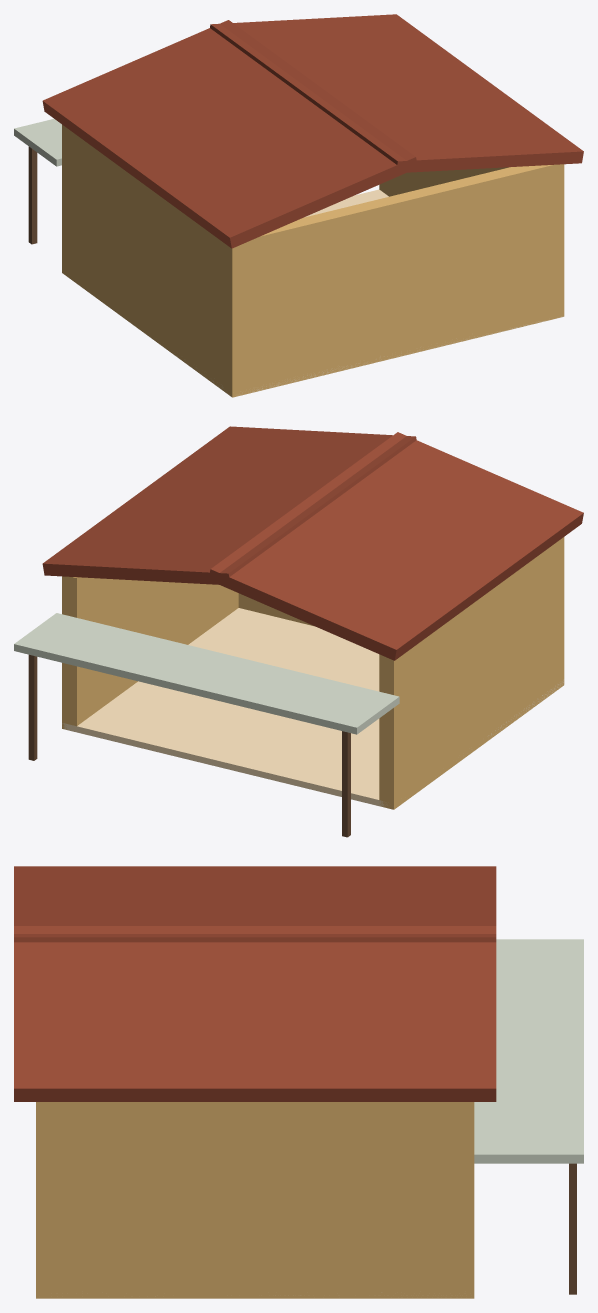
The model's file is grocery.glb.
The picture shows the model from 3 angles, top to bottom: view 1: azimuth 30°, elevation 25°; view 2: azimuth 150°, elevation 25°; view 3: azimuth 270°, elevation 25°; orthographic projection. The views are drawn at different scales.
Parts seen in each view (by area): view 1: _MeshInstance3D_181, _MeshInstance3D_190, _MeshInstance3D_191, _MeshInstance3D_184, _MeshInstance3D_187, _MeshInstance3D_193, _MeshInstance3D_194, _MeshInstance3D_192; view 2: _MeshInstance3D_190, _MeshInstance3D_191, _MeshInstance3D_184, _MeshInstance3D_192, _MeshInstance3D_193, _MeshInstance3D_187, _MeshInstance3D_195, _MeshInstance3D_181, _MeshInstance3D_194; view 3: _MeshInstance3D_187, _MeshInstance3D_191, _MeshInstance3D_190, _MeshInstance3D_193, _MeshInstance3D_181, _MeshInstance3D_195.
Boxes of the visible parts, x1,y1,x2,y2 form: _MeshInstance3D_181: (224, 164, 564, 397); _MeshInstance3D_190: (42, 20, 417, 248); _MeshInstance3D_191: (210, 14, 583, 173); _MeshInstance3D_184: (62, 124, 247, 397); _MeshInstance3D_187: (379, 164, 563, 319); _MeshInstance3D_193: (14, 119, 61, 166); _MeshInstance3D_194: (28, 146, 37, 244); _MeshInstance3D_192: (163, 189, 563, 395); _MeshInstance3D_190: (208, 432, 583, 660); _MeshInstance3D_191: (42, 426, 416, 585); _MeshInstance3D_184: (379, 537, 564, 809); _MeshInstance3D_192: (62, 608, 564, 807); _MeshInstance3D_193: (14, 613, 399, 734); _MeshInstance3D_187: (62, 576, 238, 729); _MeshInstance3D_195: (28, 654, 37, 760); _MeshInstance3D_181: (238, 538, 564, 687); _MeshInstance3D_194: (342, 731, 350, 837); _MeshInstance3D_187: (36, 1102, 474, 1298); _MeshInstance3D_191: (14, 926, 496, 1101); _MeshInstance3D_190: (14, 866, 496, 942); _MeshInstance3D_193: (474, 939, 583, 1163); _MeshInstance3D_181: (36, 1102, 57, 1298); _MeshInstance3D_195: (569, 1163, 576, 1294).
Bounding box in the file's own units: 9.6 × 5.29 × 10.4.
